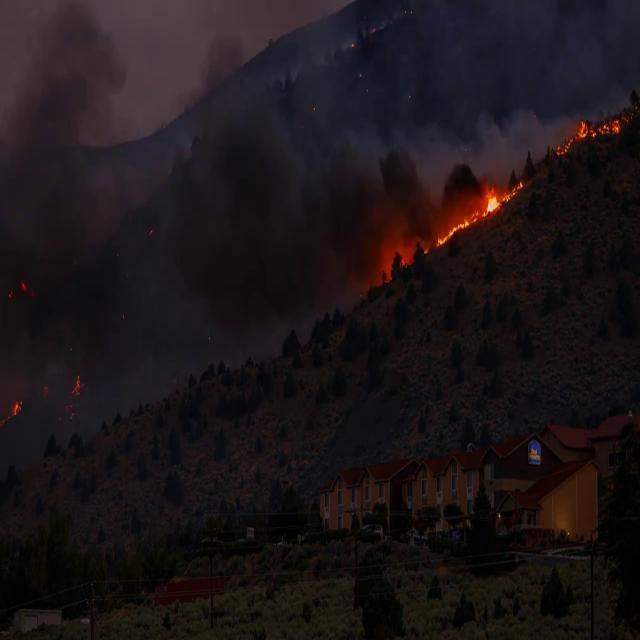Fire: (558, 119, 622, 152), (482, 181, 524, 219), (436, 220, 470, 244), (71, 373, 83, 395), (10, 401, 20, 418)
Smoke: (6, 2, 129, 148), (480, 112, 574, 184), (180, 34, 248, 115), (576, 37, 630, 109), (406, 135, 454, 201), (317, 34, 348, 64), (272, 59, 300, 89)
